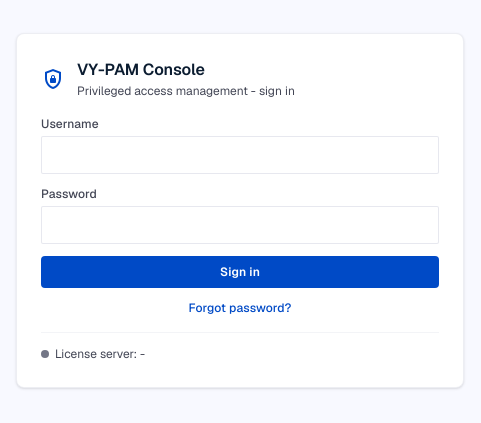
LoginPage (F3 login flow, contract-shaped) › shows the honest required-fields message on an empty submit
The image size is (481, 423).
Step 1. Click the button "Sign in" → (240, 272), box [41, 256, 439, 288]
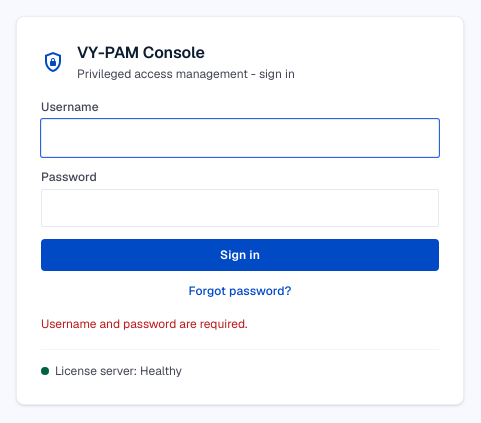
Expected: the text "Username and password are required." is shown, [41, 316, 248, 332]
